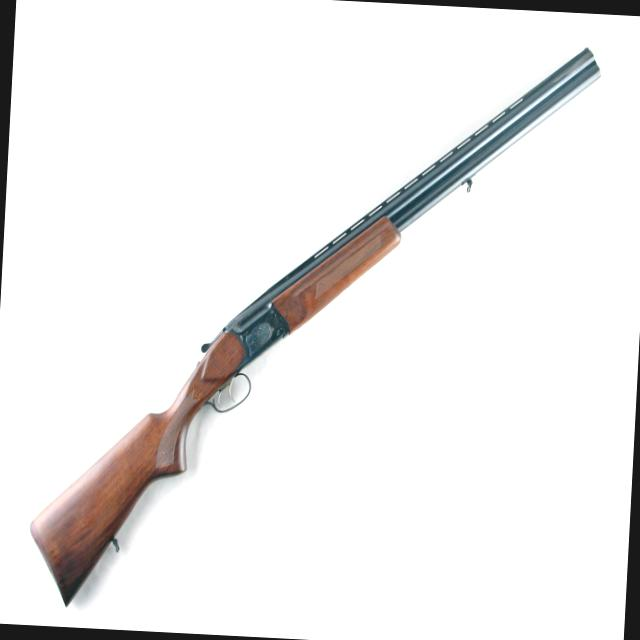long weapon: (0, 21, 626, 617)
